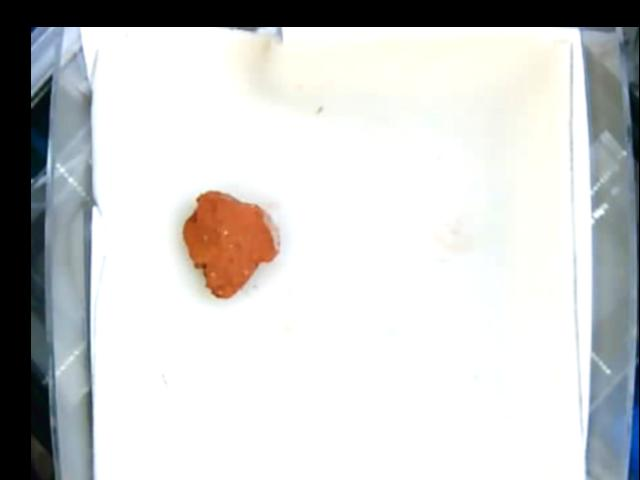Brisk: (181, 189, 278, 296)
